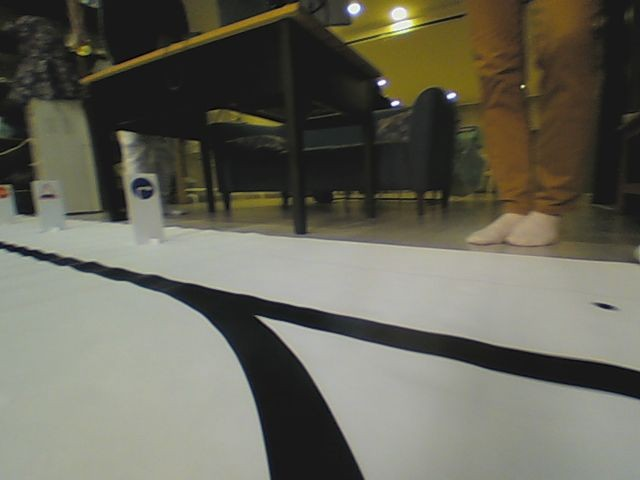Right: (130, 177, 156, 201)
